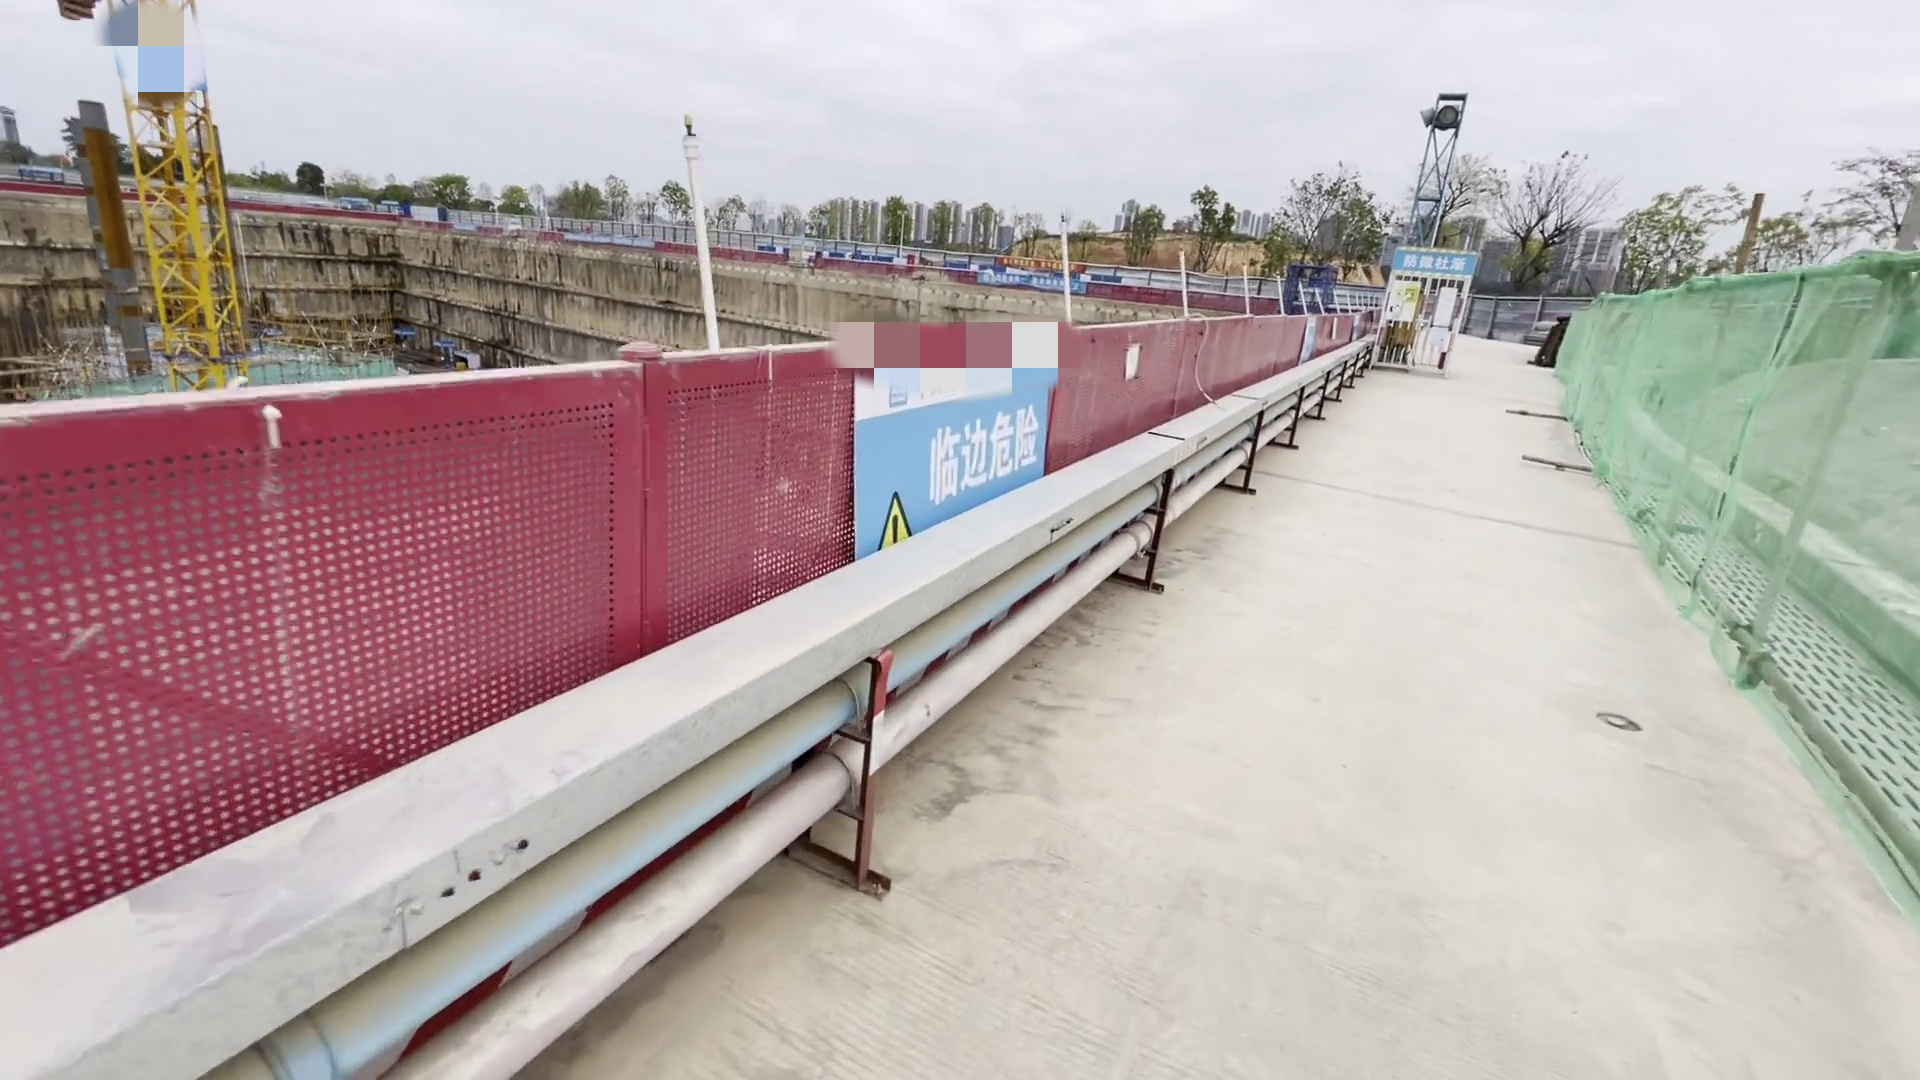fence: (1, 310, 1371, 961)
slogan: (913, 415, 1060, 483), (986, 255, 1092, 294), (1410, 244, 1466, 280)
